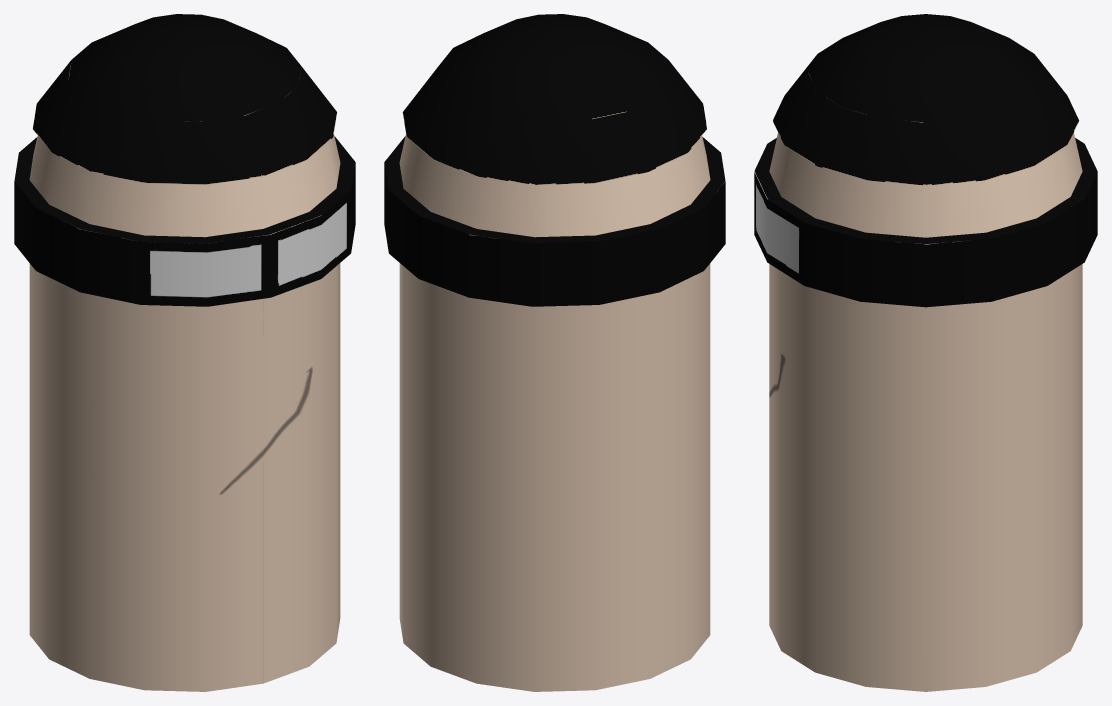
The model's file is The Phisher.glb.
3 renders of one model, left to right at view 1: azimuth 30°, elevation 25°; view 2: azimuth 150°, elevation 25°; view 3: azimuth 270°, elevation 25°, orthographic.
Visible parts, largest first — view 1: Cylinder; view 2: Cylinder; view 3: Cylinder.
Boxes of the visible parts, bbox=[...] form: Cylinder: bbox=[14, 14, 355, 691]; Cylinder: bbox=[384, 14, 725, 691]; Cylinder: bbox=[754, 14, 1097, 691].
Size of the model in its own units: 2.19 by 4.2 by 2.19.
Materials: 1 (1 with a texture image).
